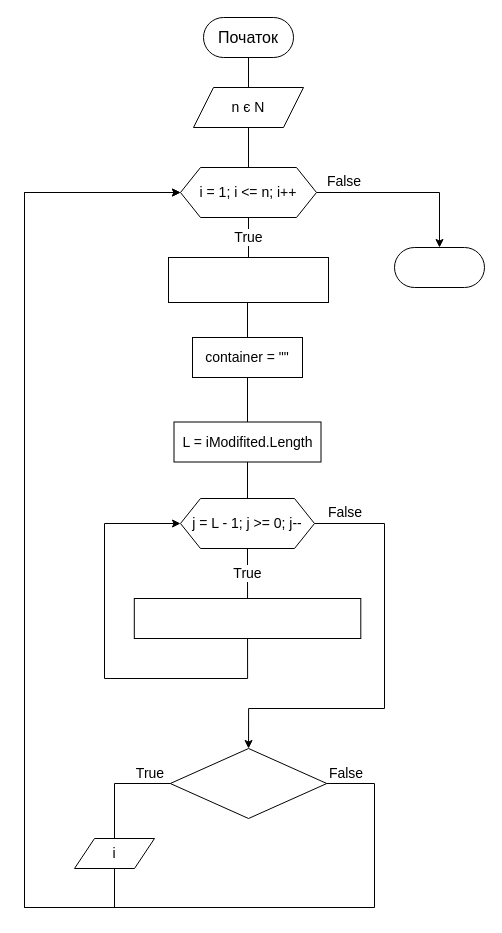
Image size: 502x933. Some labels were removed from this diagram. Here are the shapes that lost their labels. From the top down, the centre of each, then its label:
pixel 248 279: iModifite = i 2 .ToString()
pixel 439 267: Кінець
pixel 247 618: container = container + iModifite[j]
pixel 248 783: iModifite = container
